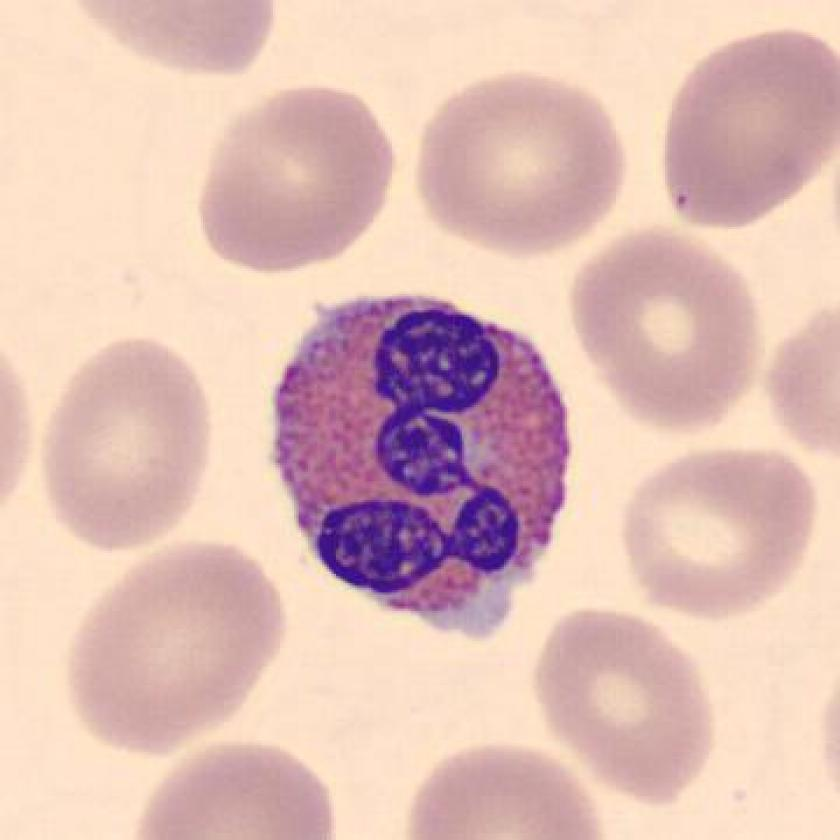eosinophil: (251, 276, 587, 649)
